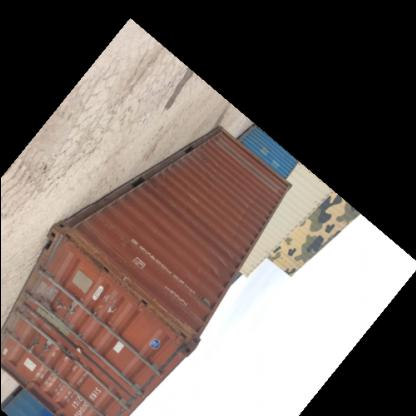Damage: (62, 226, 120, 270), (146, 292, 190, 340), (229, 190, 262, 240), (34, 284, 70, 314), (205, 249, 240, 278), (103, 284, 122, 314)
